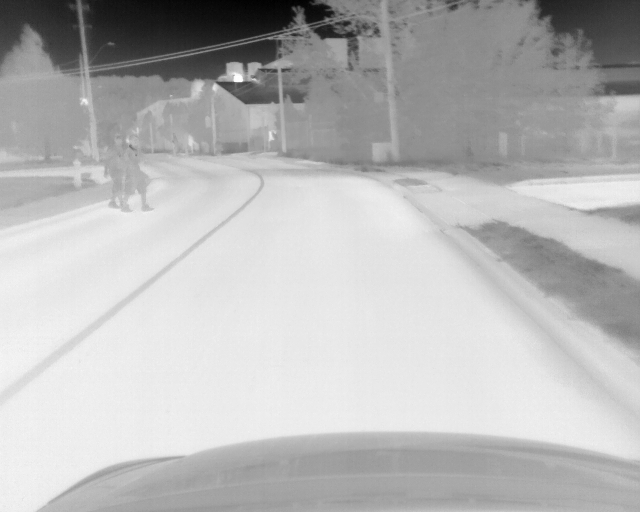people: (126, 136, 155, 214), (102, 132, 128, 213)
